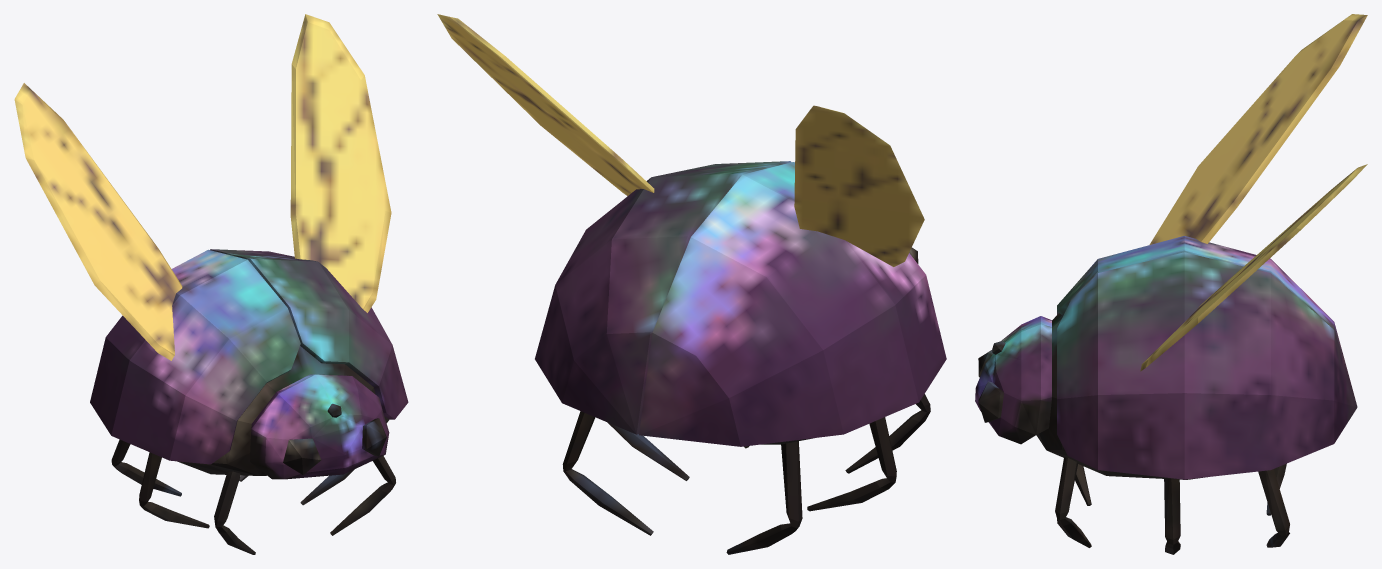
File: PlumpBeetle.fbx
The picture shows the model from 3 angles, left to right: view 1: azimuth 30°, elevation 25°; view 2: azimuth 150°, elevation 25°; view 3: azimuth 270°, elevation 25°; orthographic projection. The views are drawn at different scales.
Parts seen in each view (by area): view 1: PlumpBeetle; view 2: PlumpBeetle; view 3: PlumpBeetle.
Boxes of the visible parts, x1,y1,x2,y2 form: PlumpBeetle: (14,14,408,554); PlumpBeetle: (437,14,946,554); PlumpBeetle: (975,14,1367,554).
Bounding box in the file's own units: 22.87 × 26.25 × 21.13.
